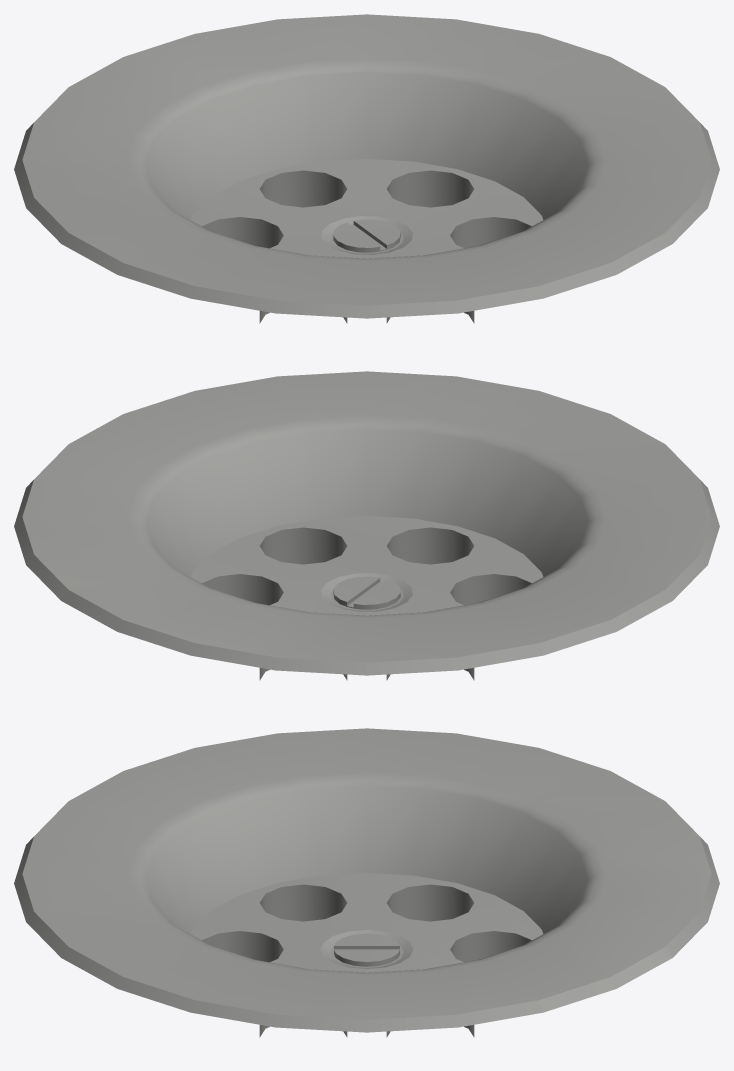
Rendered from sink_drain.glb.
The picture shows the model from 3 angles, top to bottom: view 1: azimuth 30°, elevation 25°; view 2: azimuth 150°, elevation 25°; view 3: azimuth 270°, elevation 25°; orthographic projection.
Visible parts, largest first — view 1: sink_drain; view 2: sink_drain; view 3: sink_drain.
Boxes of the visible parts, left/top/right/bottom form: sink_drain: left=14, top=14, right=719, bottom=323; sink_drain: left=14, top=371, right=719, bottom=680; sink_drain: left=14, top=728, right=719, bottom=1037.
Bounding box in the file's own units: 0.07 × 0.0129 × 0.07.
1 material, 1 textured.
